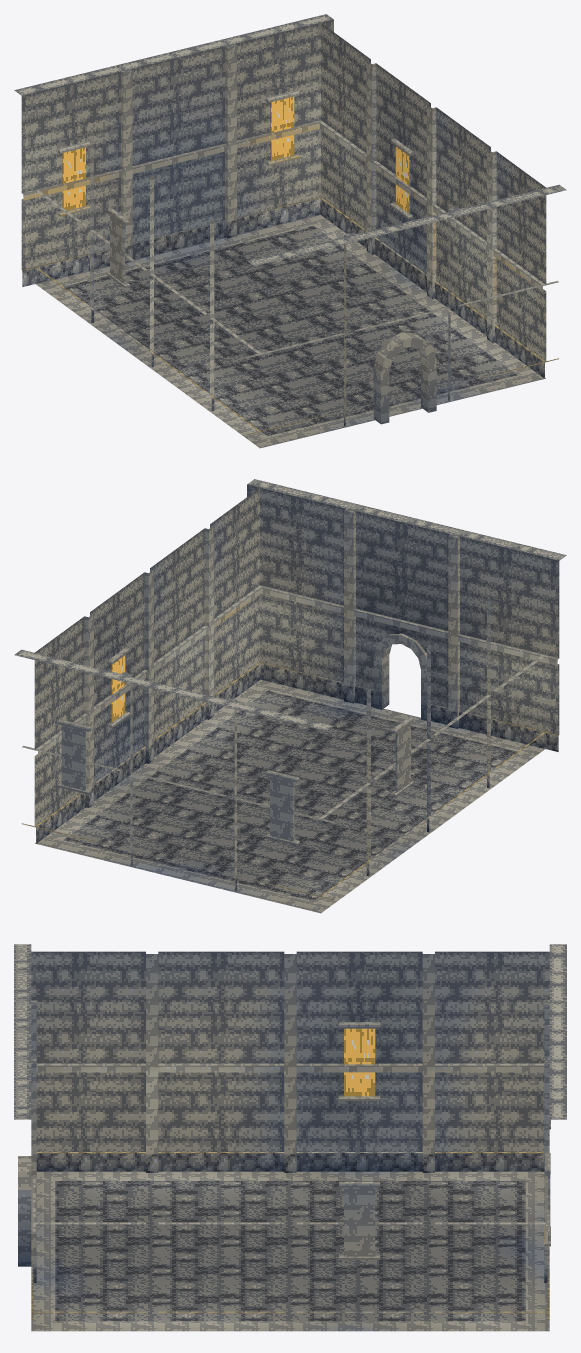
The model's file is cst.hall__throne.glb.
3 renders of one model, top to bottom at view 1: azimuth 30°, elevation 25°; view 2: azimuth 150°, elevation 25°; view 3: azimuth 270°, elevation 25°, orthographic. The views are drawn at different scales.
Parts seen in each view (by area): view 1: kit_shell_walls, kit_shell_floor, kit_fittings; view 2: kit_shell_walls, kit_shell_floor, kit_fittings; view 3: kit_shell_walls, kit_shell_floor, kit_fittings.
Part boxes in pixels (x1,y1,x2,y2): kit_shell_walls: (14, 14, 566, 434); kit_shell_floor: (36, 214, 545, 448); kit_fittings: (58, 90, 436, 424); kit_shell_walls: (14, 479, 566, 899); kit_shell_floor: (35, 679, 544, 913); kit_fittings: (57, 633, 426, 845); kit_shell_walls: (14, 944, 566, 1319); kit_shell_floor: (31, 1171, 549, 1331); kit_fittings: (18, 1022, 550, 1266).
Bounding box in the file's own units: 12 × 7 × 16.
5 materials, 5 textured.
